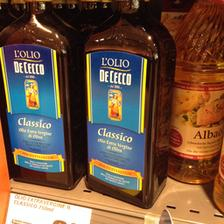Oel: (84, 0, 176, 208), (0, 0, 84, 188)
